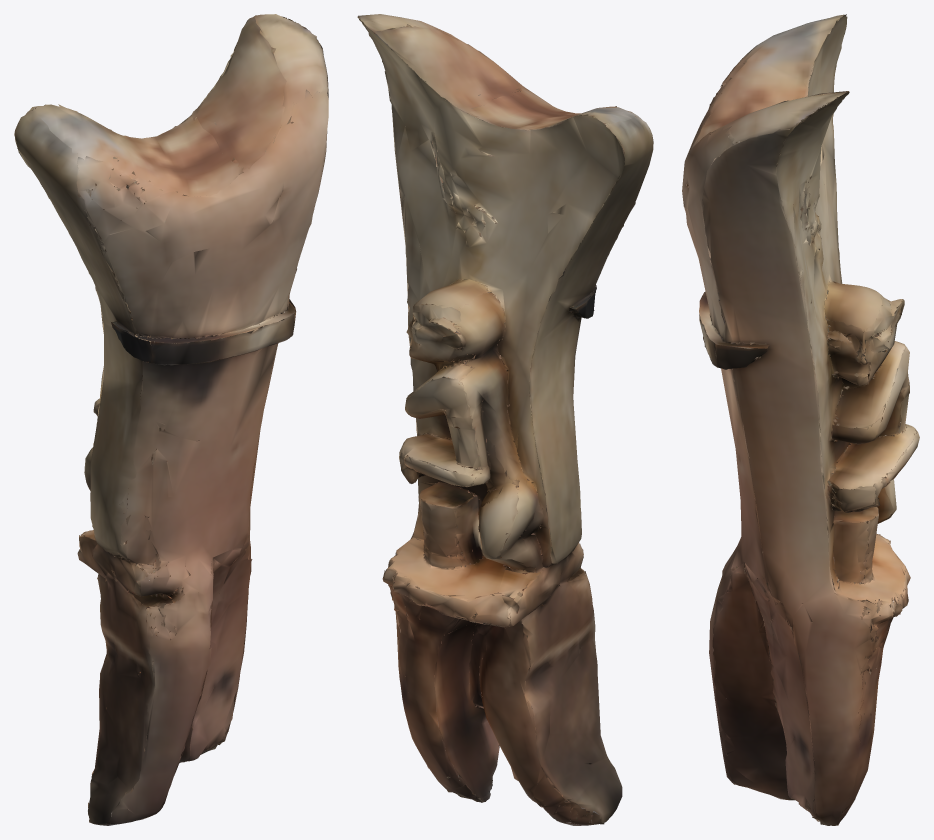
Rendered from pilier_3.glb.
3 views of the same model, side by side, from view 1: azimuth 30°, elevation 25°; view 2: azimuth 150°, elevation 25°; view 3: azimuth 270°, elevation 25° (orthographic). The views are drawn at different scales.
Visible parts, largest first — view 1: Mesh_0.005; view 2: Mesh_0.005; view 3: Mesh_0.005.
Boxes of the visible parts, x1,y1,x2,y2 form: Mesh_0.005: (14, 14, 328, 825); Mesh_0.005: (357, 14, 653, 825); Mesh_0.005: (682, 14, 919, 825).
Size of the model in its own units: 0.4391 by 1.11 by 0.3022.
1 material, 1 textured.
